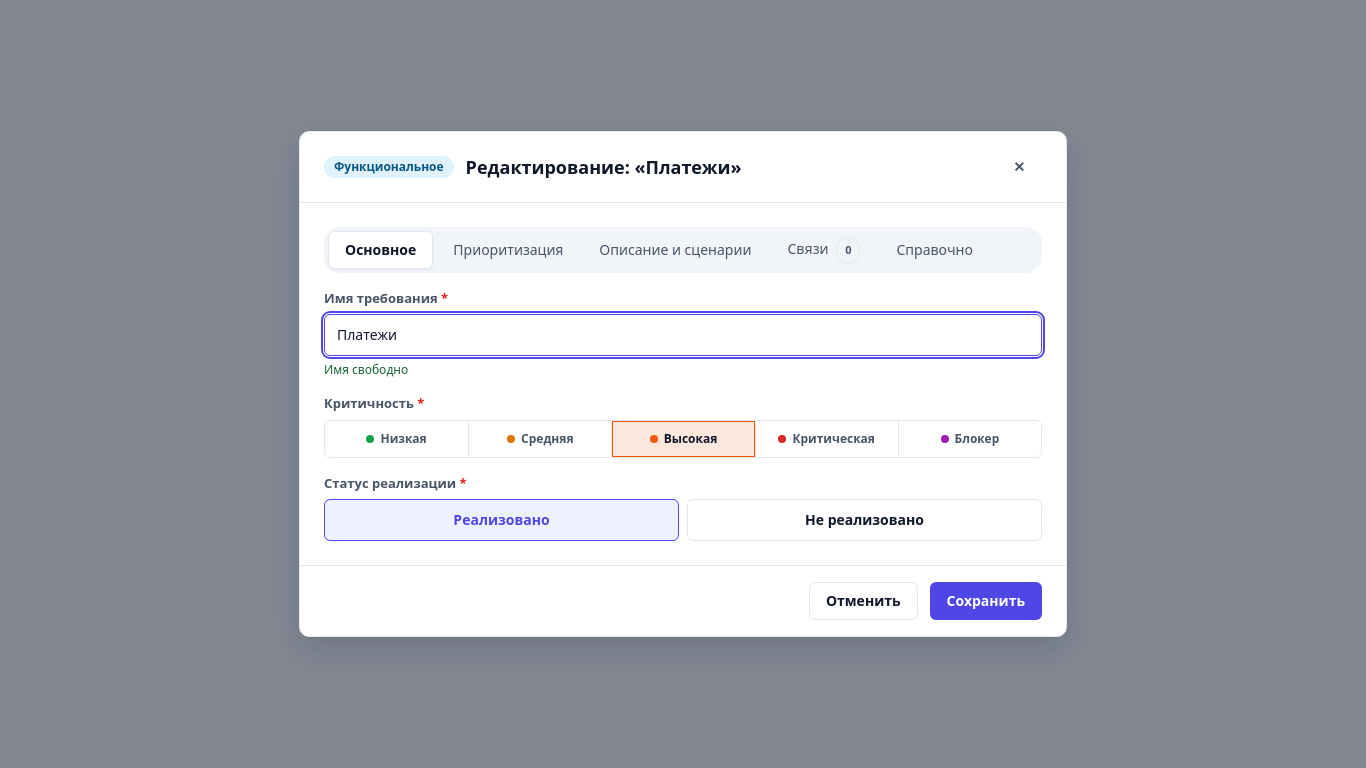
Test case: RequirementModal (T-1106, FR-6) › T4 (уровень 0): saves an edit WITHOUT confirmation and shows the «Сохранено» toast
This screenshot has width=1366, height=768.
In the field with test id "req-name": [683, 335] box [324, 314, 1042, 356], type " v2"
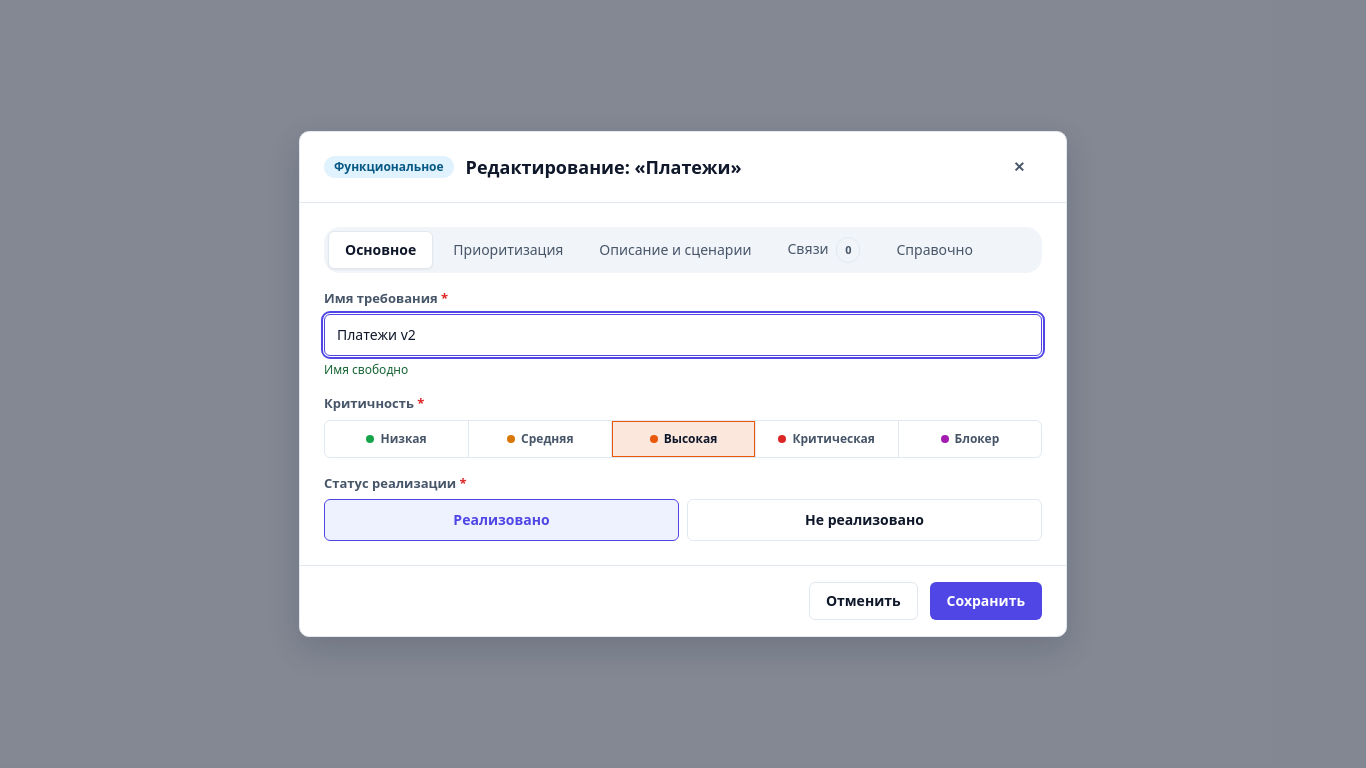
Click the button with test id "req-submit": [986, 601] box [930, 582, 1042, 620]
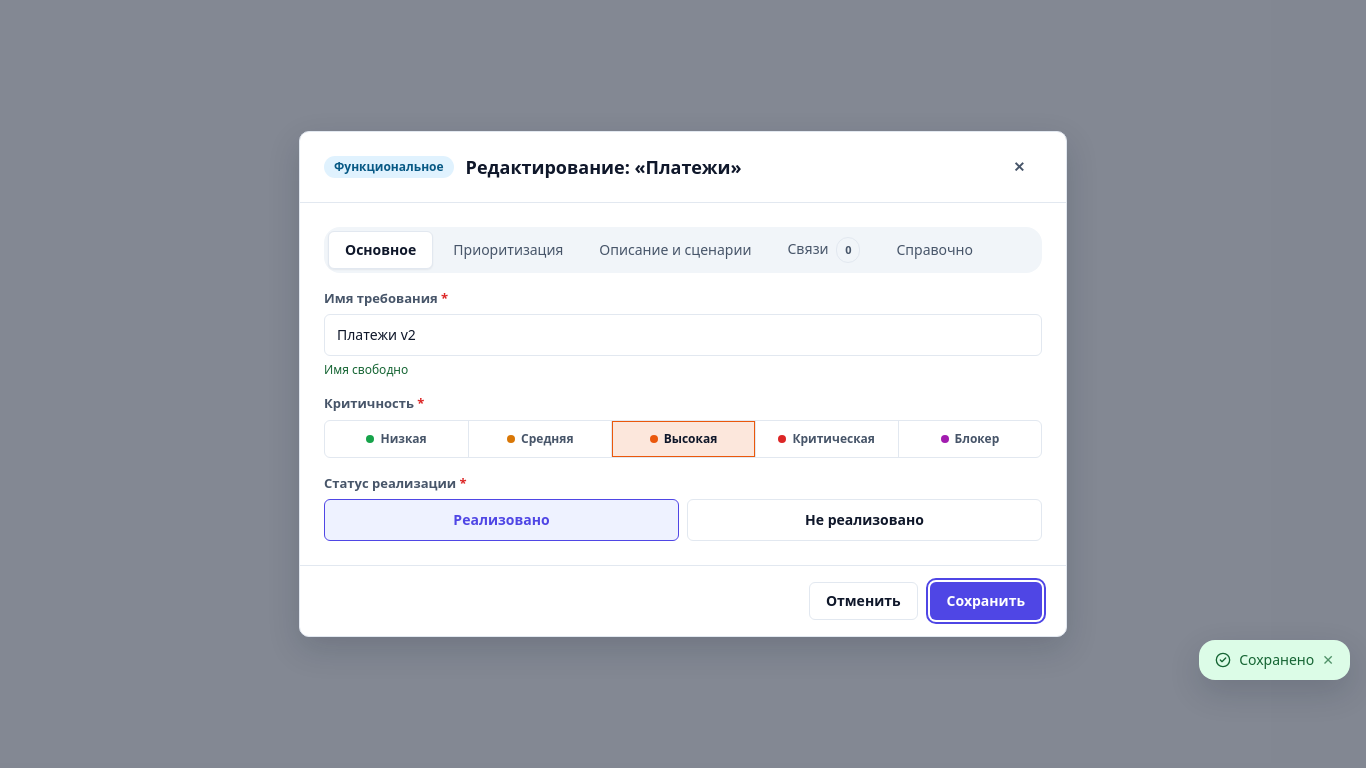
Now the message with test id "toast" shows "Сохранено", box [1239, 650, 1314, 669]
